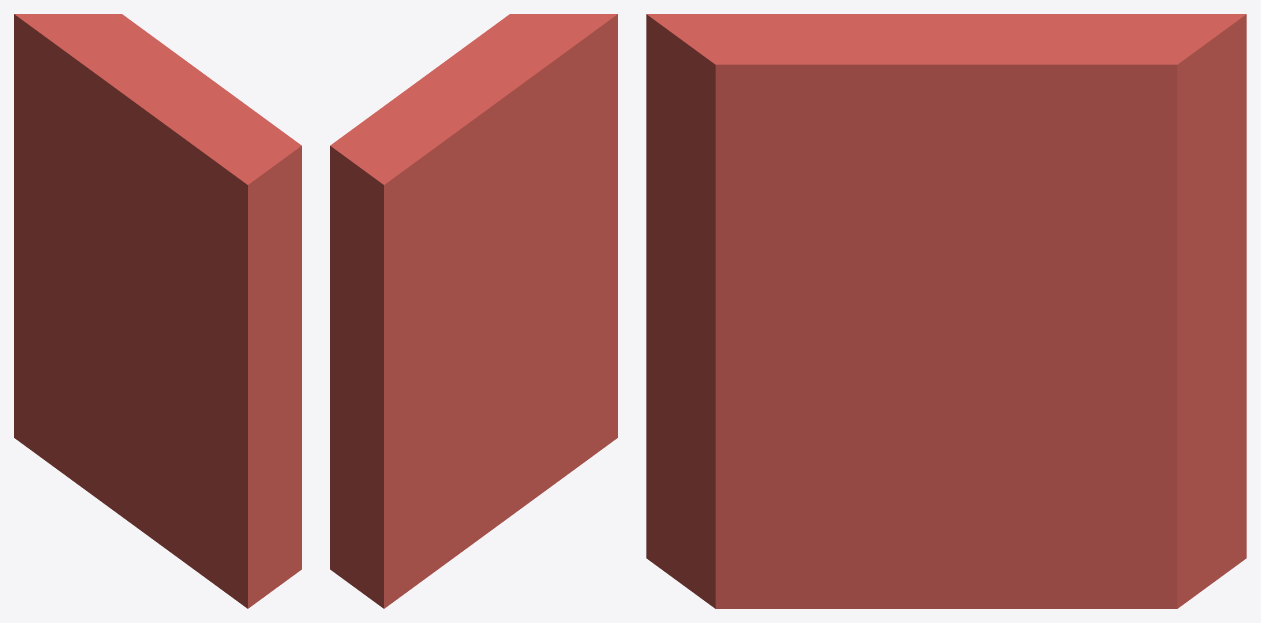
The model's file is inner_wall_0.fbx.
The picture shows the model from 3 angles, left to right: view 1: azimuth 30°, elevation 25°; view 2: azimuth 150°, elevation 25°; view 3: azimuth 270°, elevation 25°; orthographic projection. The views are drawn at different scales.
Parts seen in each view (by area): view 1: inner_wall_0; view 2: inner_wall_0; view 3: inner_wall_0.
Boxes of the visible parts, <box> form: inner_wall_0: <box>14,14,301,608</box>; inner_wall_0: <box>330,14,617,608</box>; inner_wall_0: <box>646,14,1246,608</box>.
Bounding box in the file's own units: 20 × 100 × 100.
